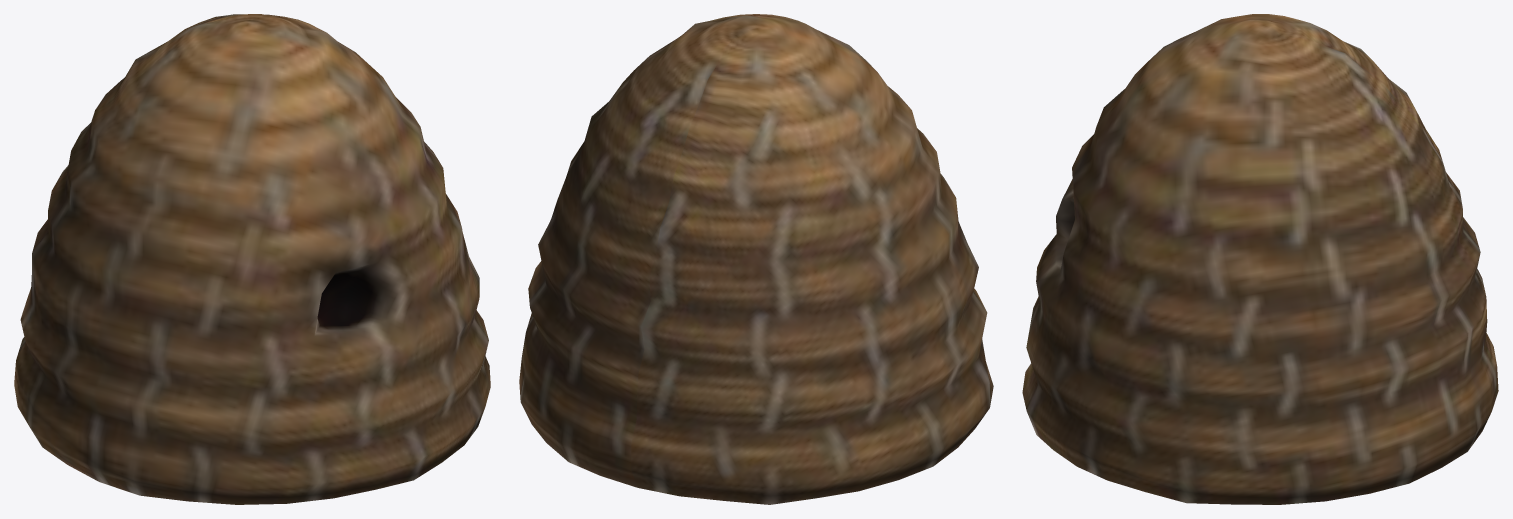
The model's file is beehive.glb.
3 views of the same model, side by side, from view 1: azimuth 30°, elevation 25°; view 2: azimuth 150°, elevation 25°; view 3: azimuth 270°, elevation 25° (orthographic).
Visible parts, largest first — view 1: npc_props_beehive_01; view 2: npc_props_beehive_01; view 3: npc_props_beehive_01.
Boxes of the visible parts, x1=… form: npc_props_beehive_01: x1=14, y1=14, x2=490, y2=504; npc_props_beehive_01: x1=519, y1=14, x2=993, y2=504; npc_props_beehive_01: x1=1022, y1=14, x2=1498, y2=504.
Bounding box in the file's own units: 1.63 × 1.48 × 1.63.
1 material, 1 textured.
